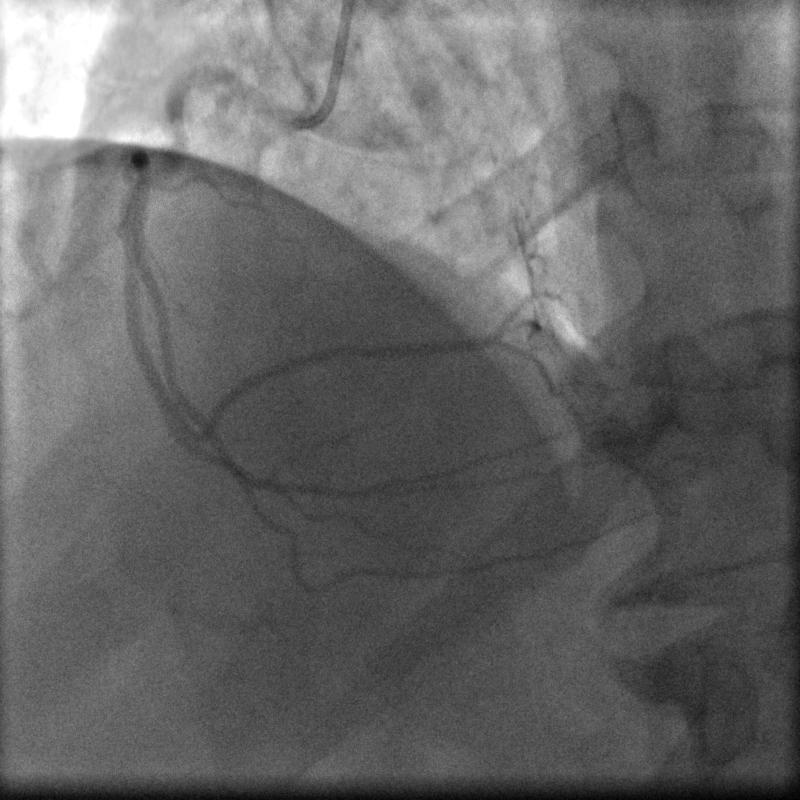Stenosis: (165, 114, 189, 147)
